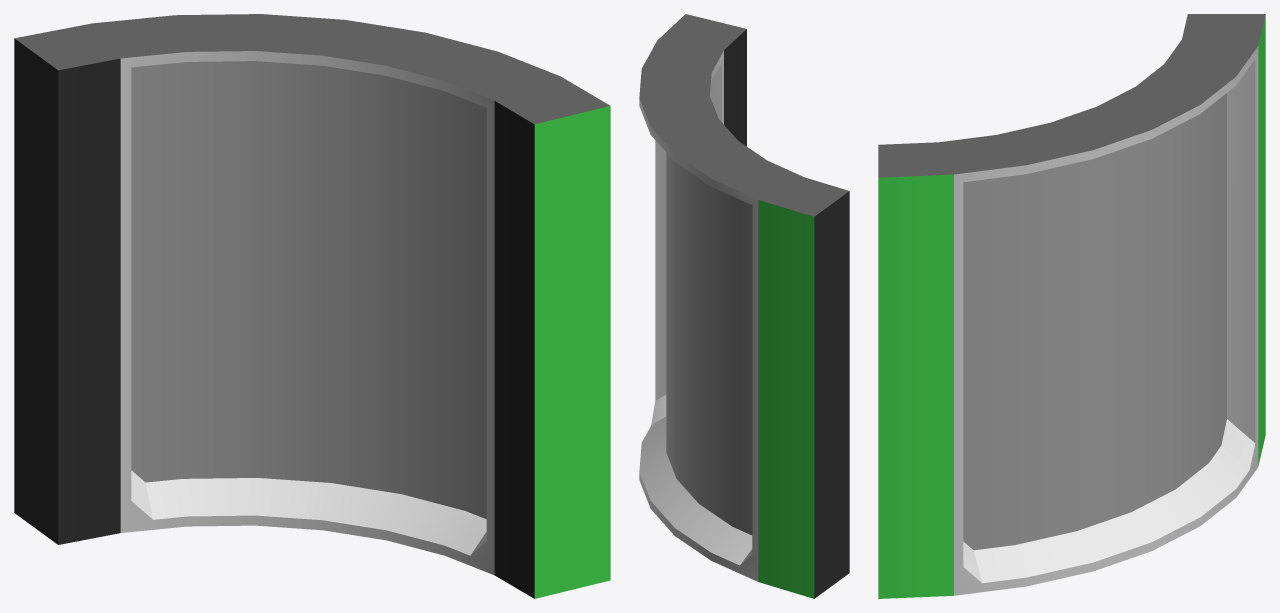
Rendered from Wall_Simple_RoundCorner00c.fbx.
3 views of the same model, side by side, from view 1: azimuth 30°, elevation 25°; view 2: azimuth 150°, elevation 25°; view 3: azimuth 270°, elevation 25° (orthographic). The views are drawn at different scales.
Parts seen in each view (by area): view 1: Wall_Simple_RoundCorner00c; view 2: Wall_Simple_RoundCorner00c; view 3: Wall_Simple_RoundCorner00c.
Boxes of the visible parts, box(x1,y1,x2,y2) form: Wall_Simple_RoundCorner00c: box(14, 14, 610, 598); Wall_Simple_RoundCorner00c: box(639, 14, 849, 598); Wall_Simple_RoundCorner00c: box(878, 14, 1265, 598).
Bounding box in the file's own units: 250 × 300 × 250.
